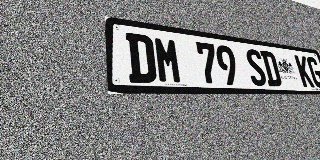7: (194, 42, 221, 85)
9: (214, 44, 240, 85)
D: (125, 32, 157, 83), (260, 50, 283, 87)
G: (306, 56, 320, 88)
K: (294, 55, 315, 87)
M: (153, 36, 183, 84)
S: (244, 48, 268, 86)
